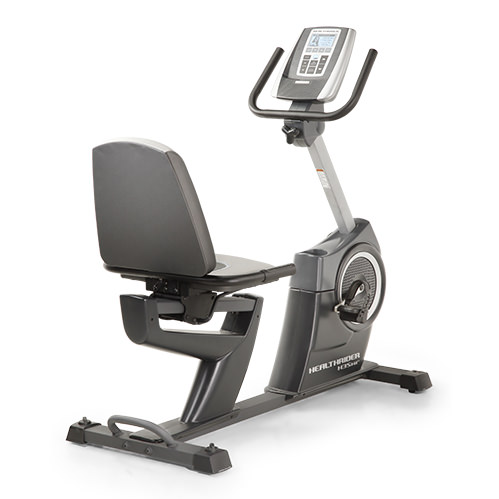gym_bike: (37, 17, 438, 471)
